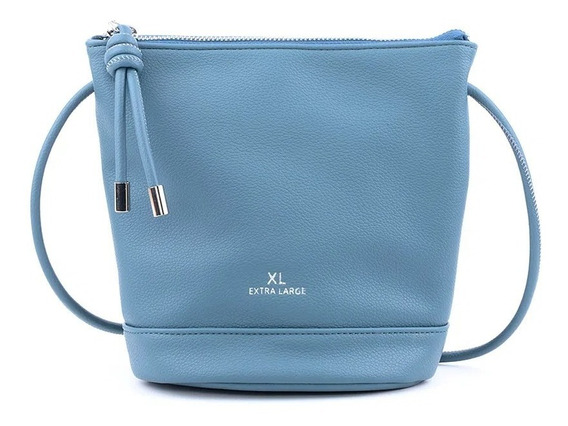cartera: (29, 26, 545, 395)
